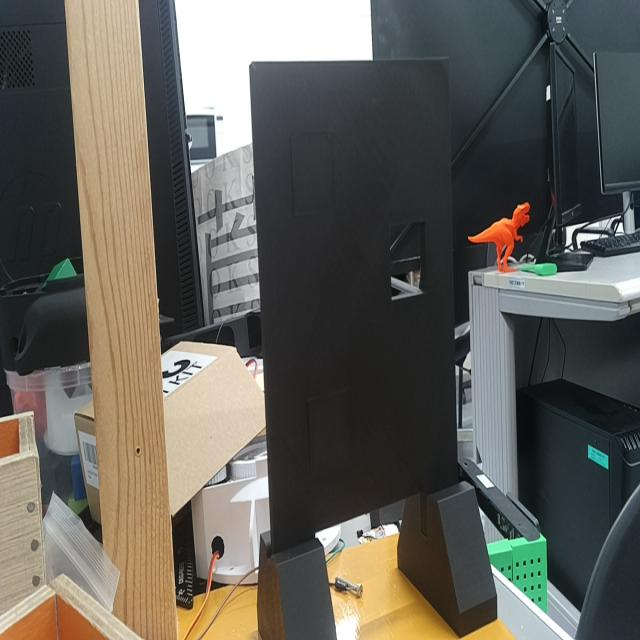Obstacle: (388, 216, 426, 300)
Wall: (250, 59, 458, 553)
